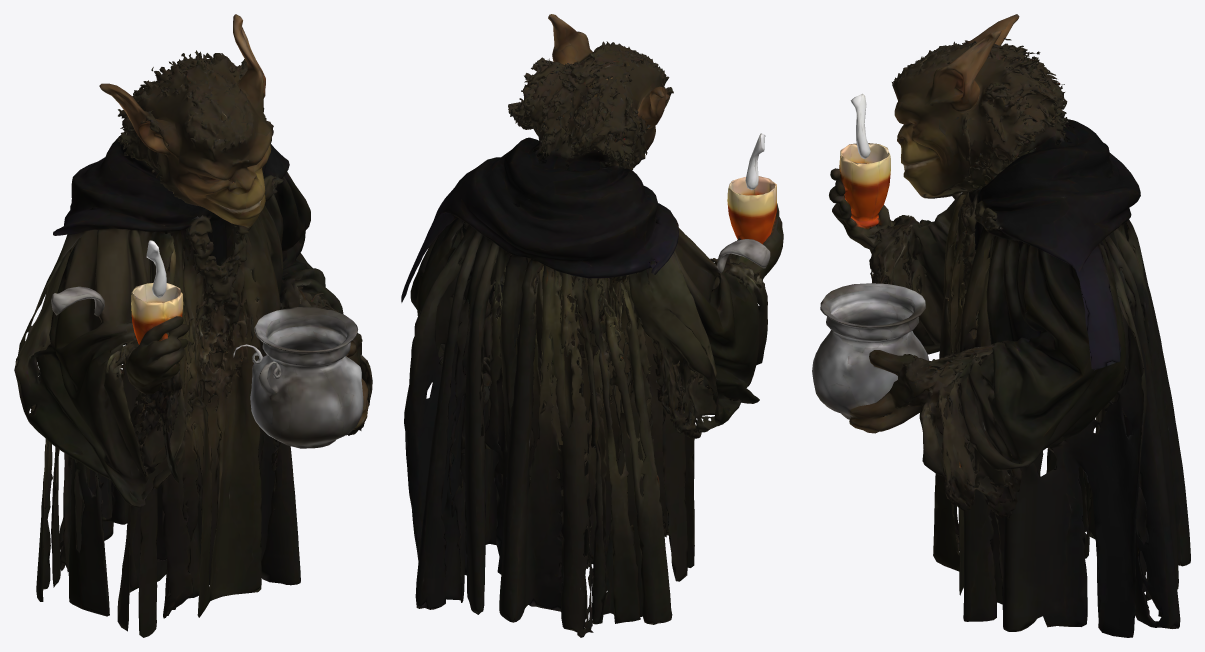
The model's file is Grimwick.glb.
The picture shows the model from 3 angles, left to right: view 1: azimuth 30°, elevation 25°; view 2: azimuth 150°, elevation 25°; view 3: azimuth 270°, elevation 25°; orthographic projection. The views are drawn at different scales.
Visible parts, largest first — view 1: world; view 2: world; view 3: world.
Part boxes in pixels (bbox=[...]): world: bbox=[14, 14, 372, 637]; world: bbox=[401, 14, 783, 637]; world: bbox=[812, 14, 1190, 637].
Bounding box in the file's own units: 0.5729 × 0.9927 × 0.5888.
Materials: 1 (1 with a texture image).
